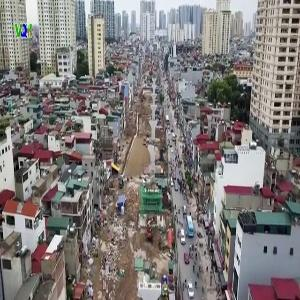drone: (134, 129, 188, 183)
